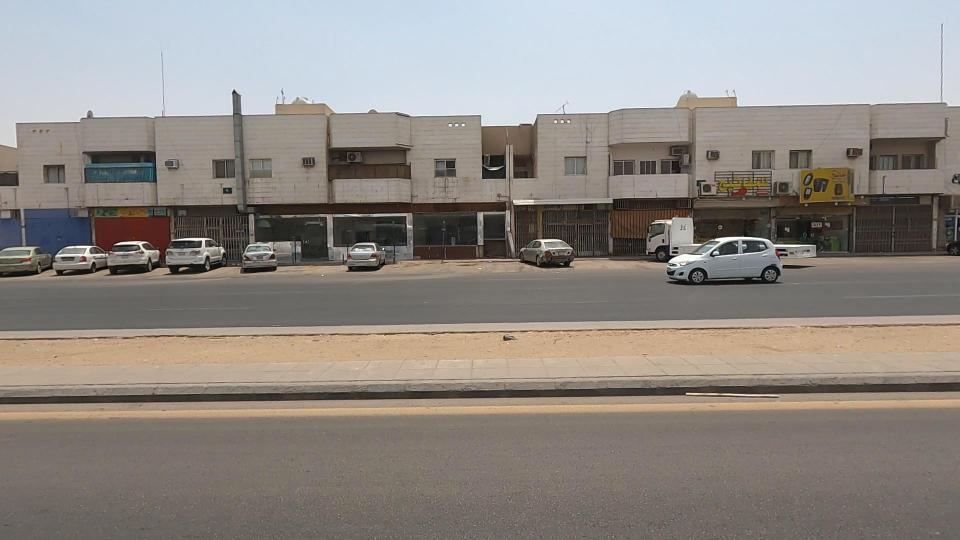CLUTTER_SIDEWALK: (226, 273, 913, 410), (0, 274, 376, 408)
